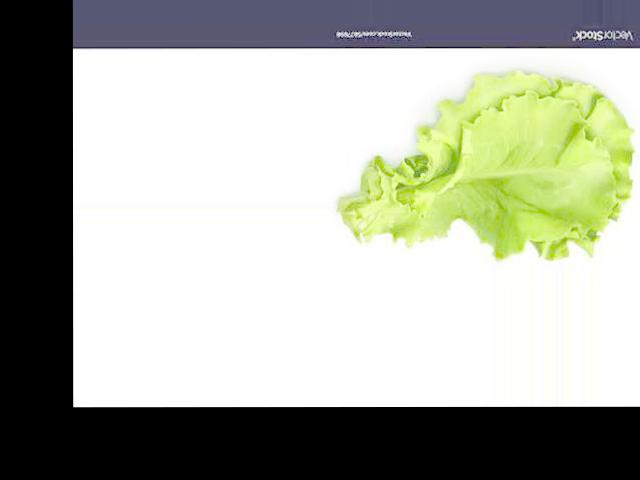lettuce: (350, 8, 451, 247)
